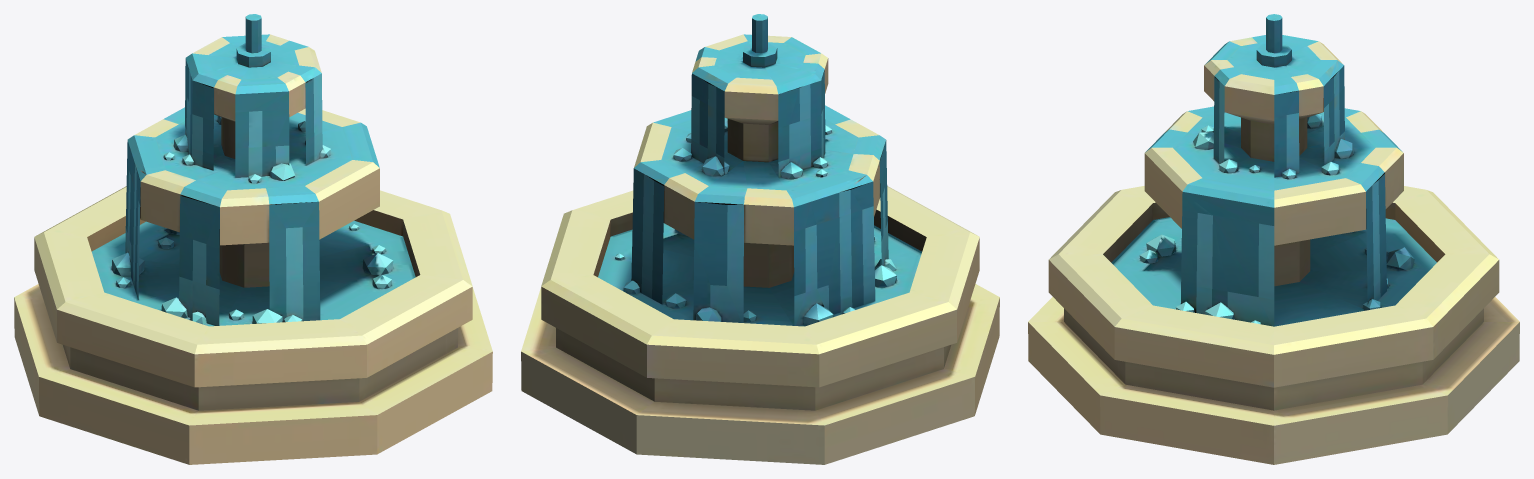
File: 4KKY7CmNe_r.glb
3 renders of one model, left to right at view 1: azimuth 30°, elevation 25°; view 2: azimuth 150°, elevation 25°; view 3: azimuth 270°, elevation 25°, orthographic.
Parts seen in each view (by area): view 1: fountain; view 2: fountain; view 3: fountain.
Boxes of the visible parts, x1,y1,x2,y2 form: fountain: (14,14,492,464); fountain: (521,14,999,464); fountain: (1028,14,1519,464).
Bounding box in the file's own units: 1.3 × 1 × 1.3.
1 material, 1 textured.
